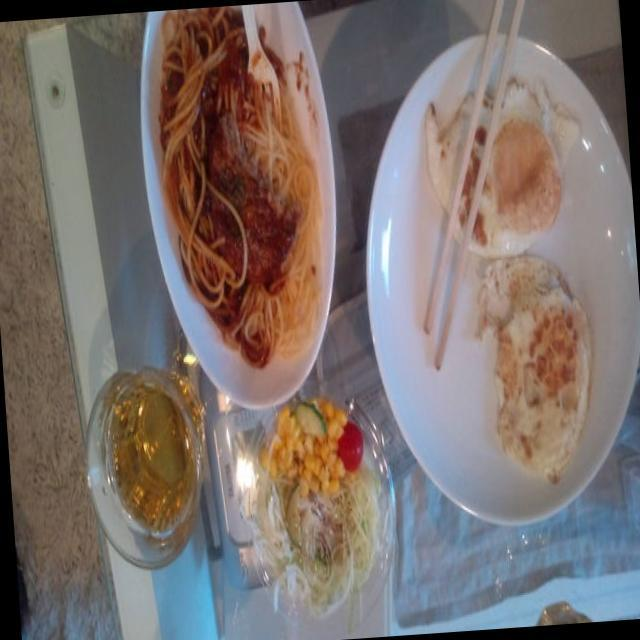Egg: (422, 85, 572, 262)
Pasta: (160, 11, 320, 366)
